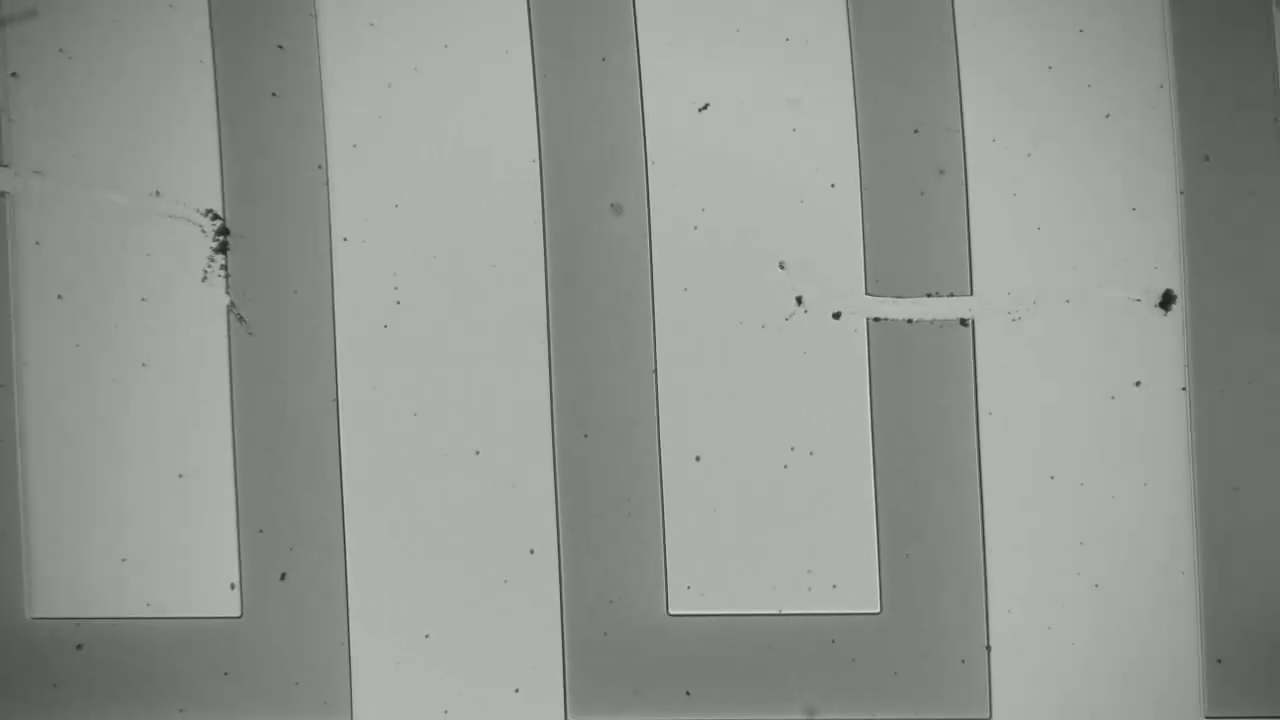Short_circuit: (848, 274, 1015, 351)
